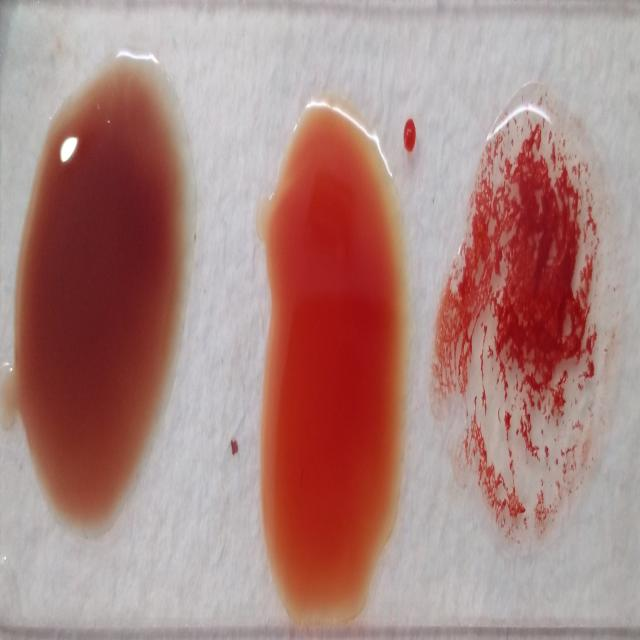D: (457, 103, 607, 527)
